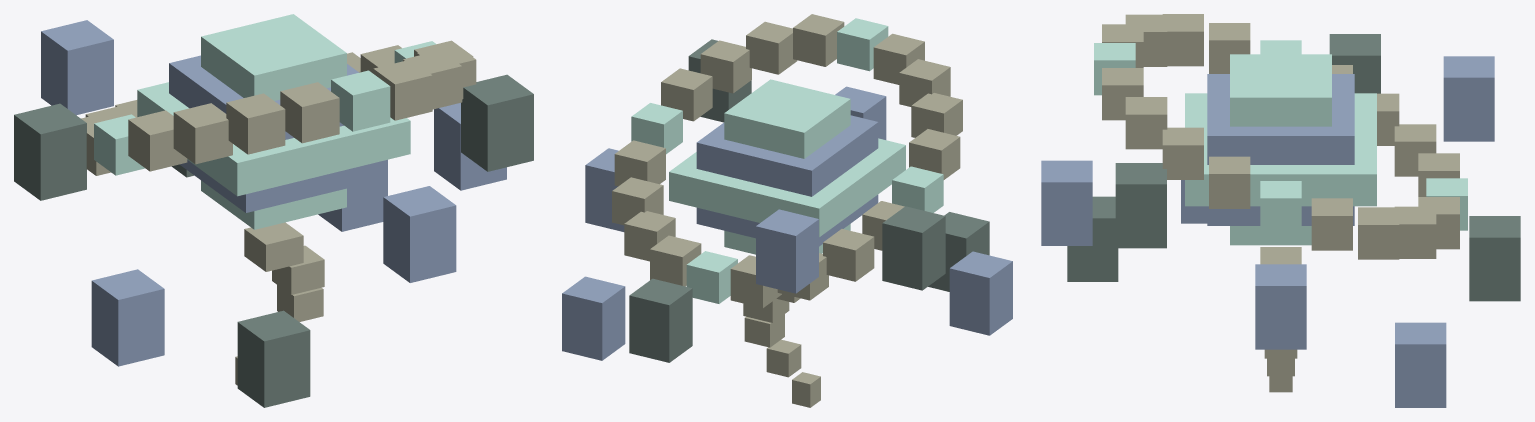
File: rift-mote.glb
The picture shows the model from 3 angles, left to right: view 1: azimuth 30°, elevation 25°; view 2: azimuth 150°, elevation 25°; view 3: azimuth 270°, elevation 25°; orthographic projection. The views are drawn at different scales.
Parts seen in each view (by area): view 1: OrbitFragments, Core, Rings, TrailingShards; view 2: Rings, OrbitFragments, Core, TrailingShards; view 3: OrbitFragments, Rings, Core, TrailingShards.
Part boxes in pixels (<box>): OrbitFragments: <box>14,20,533,407</box>; Core: <box>137,14,410,229</box>; Rings: <box>81,40,476,175</box>; TrailingShards: <box>235,222,324,385</box>; Rings: <box>612,14,962,308</box>; OrbitFragments: <box>562,39,1012,362</box>; Core: <box>669,79,905,254</box>; TrailingShards: <box>743,294,820,407</box>; OrbitFragments: <box>1041,34,1520,407</box>; Rings: <box>1094,14,1467,259</box>; Core: <box>1185,54,1376,245</box>; TrailingShards: <box>1260,247,1301,392</box>.
Bounding box in the file's own units: 7.39 × 5.97 × 7.5.
